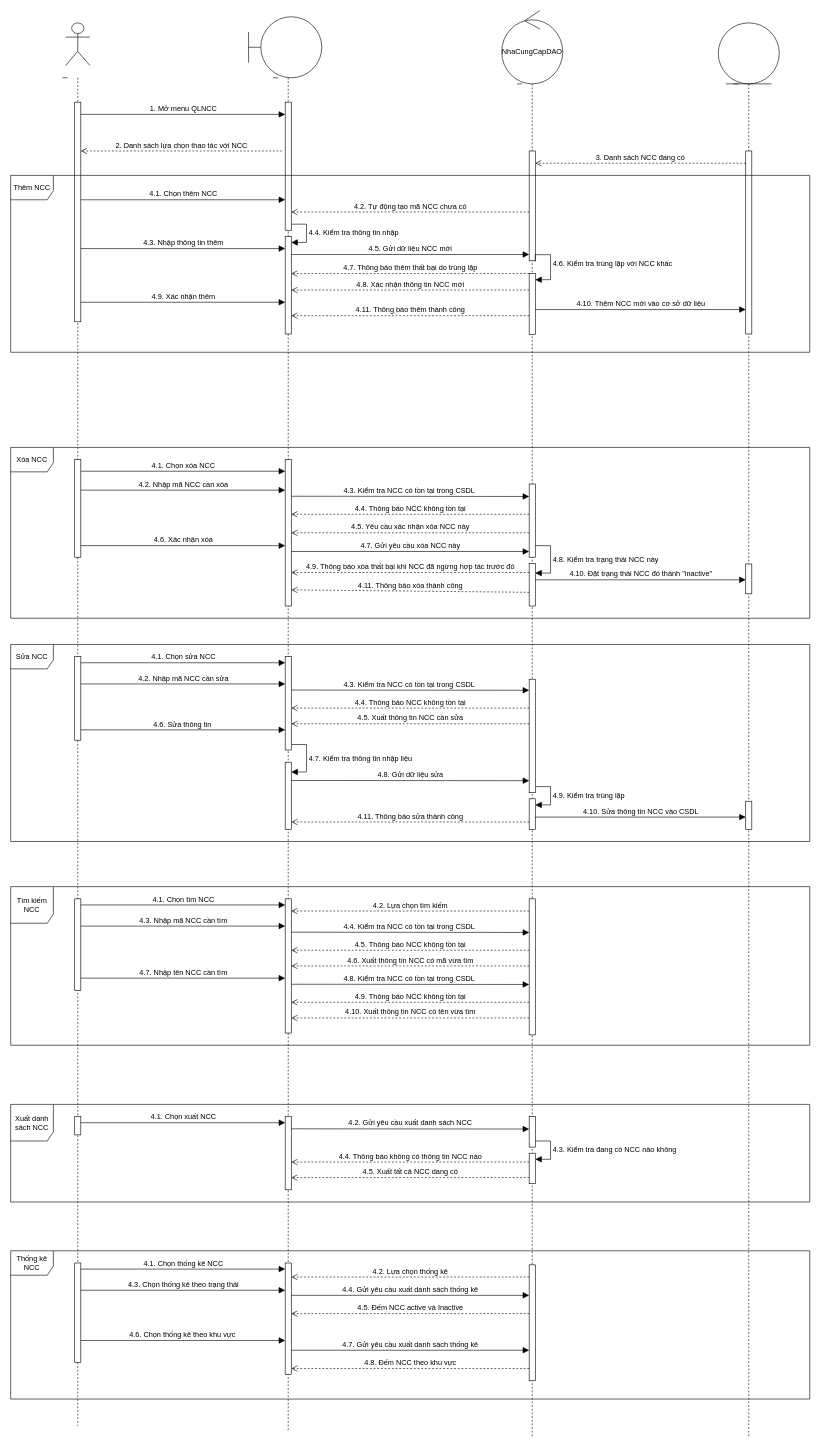
Some shapes in this 820 by 1449 pixel diagram are drawn without their labels. Each missing label, with the box of its shape:
Actor: (65, 22, 90, 66)
NhaCungCapDTO: (718, 22, 779, 84)
QLNhaCungCap: (248, 16, 322, 78)
